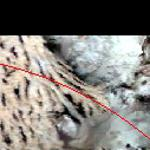alive: (1, 38, 147, 148)
